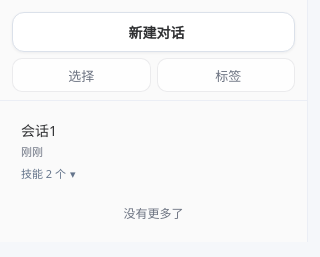
Test: ConversationSidebar info hierarchy › renders collapsed skill summary and expands skill names on toggle
This screenshot has width=320, height=257.
Step 1. Click the button with test id "skill-summary-toggle-1" → (48, 173), box top-left (21, 165), bottom-right (76, 181)
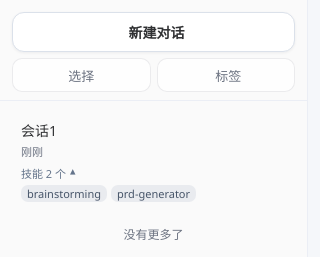
Result: the element with test id "skill-expanded-1" shows "brainstorming" at top-left (27, 186), bottom-right (101, 201)
Result: the element with test id "skill-expanded-1" shows "prd-generator" at top-left (117, 186), bottom-right (190, 201)
